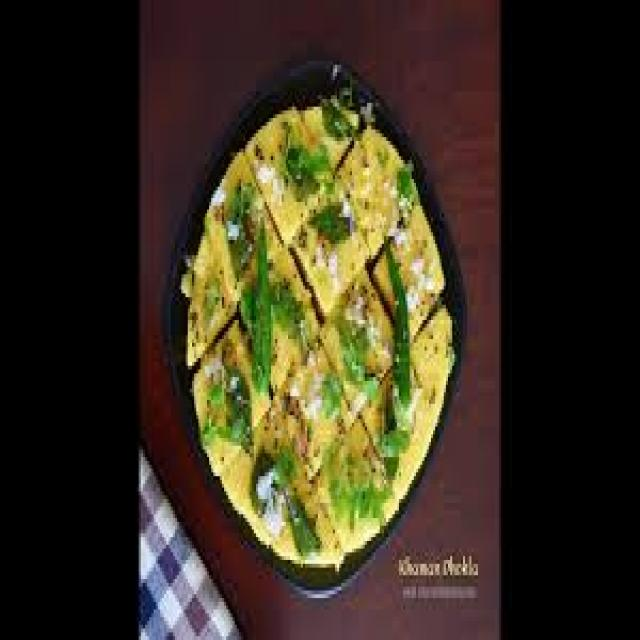DHOKLA: (219, 411, 311, 555), (196, 329, 280, 472), (243, 105, 331, 241), (206, 152, 282, 308), (320, 271, 398, 418), (271, 338, 347, 481), (376, 200, 445, 350), (320, 421, 401, 545), (293, 188, 369, 316), (245, 255, 315, 387), (336, 143, 415, 255), (367, 359, 431, 491), (188, 213, 233, 362), (273, 488, 340, 557), (309, 105, 361, 183), (414, 310, 449, 395)
